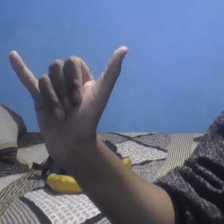Y: (2, 41, 135, 166)
